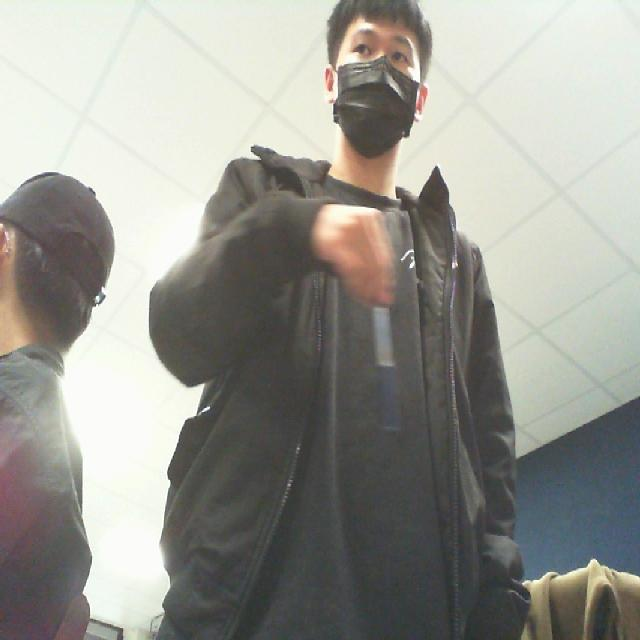Pen: (358, 277, 417, 444)
